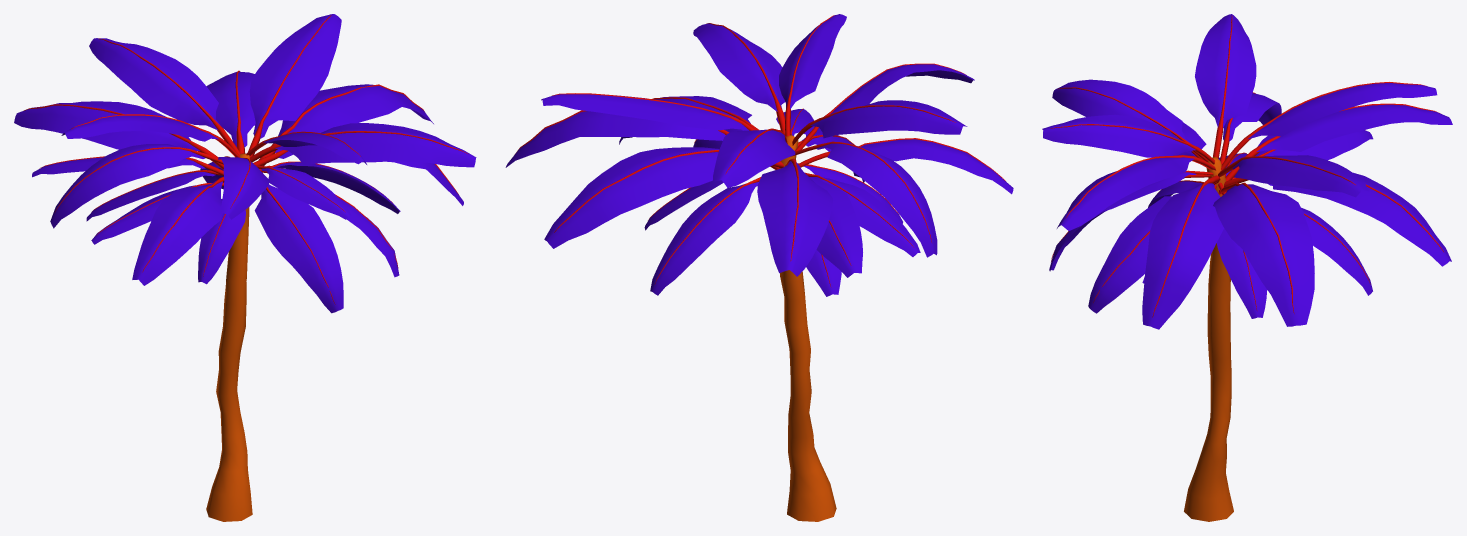
File: Palmtree_3.fbx
The picture shows the model from 3 angles, left to right: view 1: azimuth 30°, elevation 25°; view 2: azimuth 150°, elevation 25°; view 3: azimuth 270°, elevation 25°; orthographic projection. The views are drawn at different scales.
Visible parts, largest first — view 1: Leaf2LP.006; view 2: Leaf2LP.006; view 3: Leaf2LP.006.
Boxes of the visible parts, bbox=[...] form: Leaf2LP.006: bbox=[14, 14, 476, 521]; Leaf2LP.006: bbox=[505, 14, 1013, 521]; Leaf2LP.006: bbox=[1042, 14, 1452, 521].
Bounding box in the file's own units: 520 × 517 × 451.
